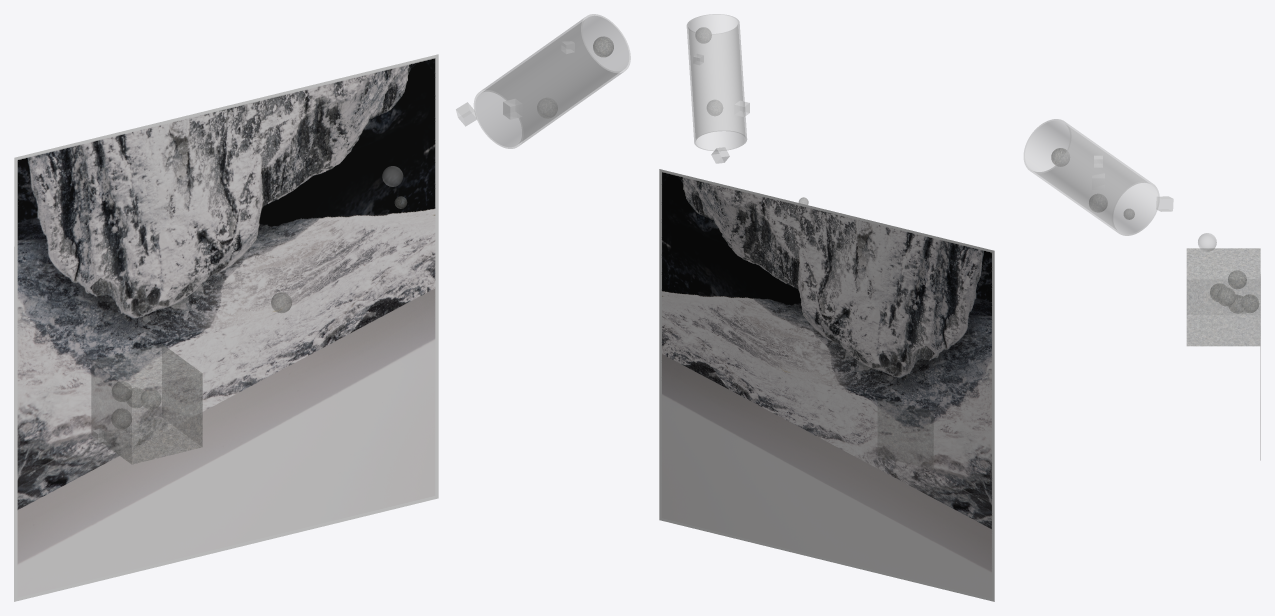
The model's file is app11.fbx.
3 renders of one model, left to right at view 1: azimuth 30°, elevation 25°; view 2: azimuth 150°, elevation 25°; view 3: azimuth 270°, elevation 25°, orthographic. The views are drawn at different scales.
Parts seen in each view (by area): view 1: Plane, Cube, Tube; view 2: Plane, Tube, Cube; view 3: Tube, Cube.
Part boxes in pixels (x1,y1,x2,y2): Plane: (14, 54, 438, 601); Cube: (91, 344, 202, 464); Tube: (474, 14, 630, 148); Plane: (659, 169, 994, 601); Tube: (687, 14, 746, 150); Cube: (877, 398, 933, 469); Tube: (1024, 119, 1159, 235); Cube: (1186, 248, 1260, 346).
Bounding box in the file's own units: 283 × 298 × 129.
